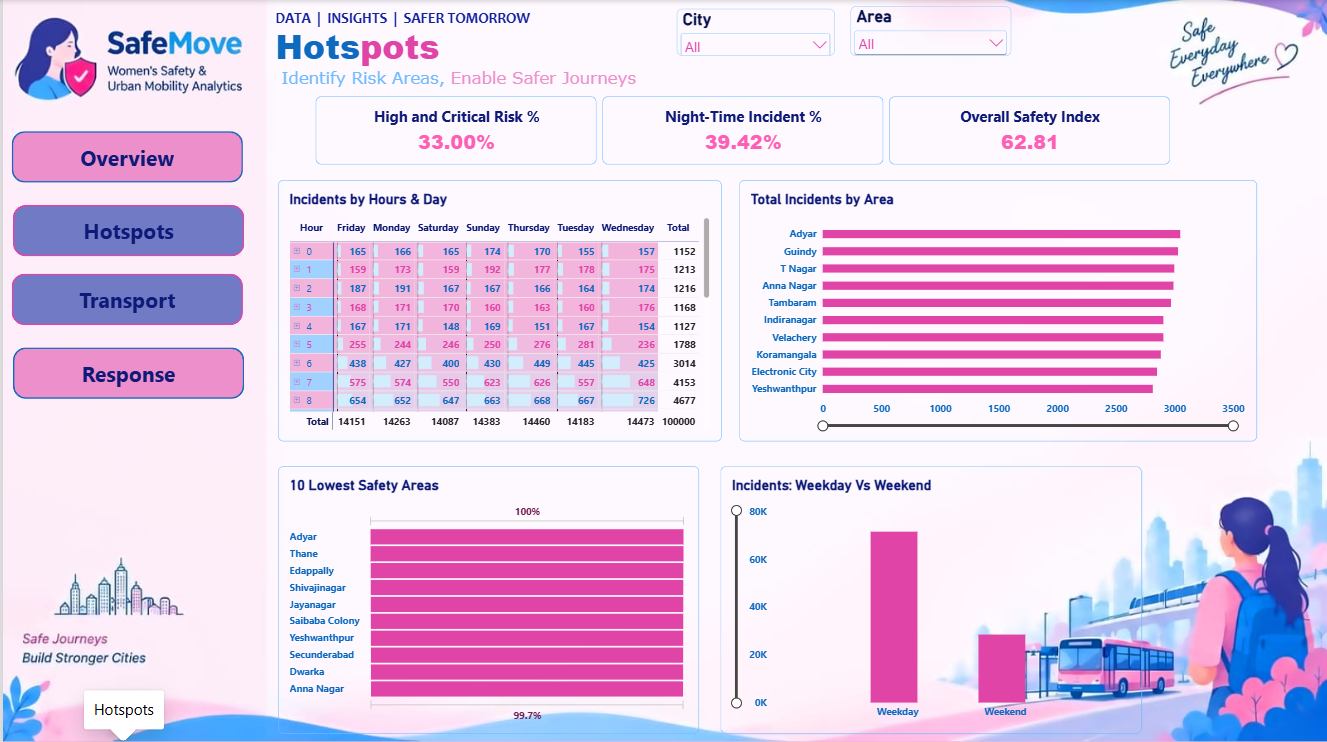

This screenshot's page, from the dashboard's own definition file:
{"tool":"powerbi","page":{"name":"Hotspots","canvas":[1920,1080],"ordinal":1},"visuals":[{"type":"textbox","box":[394.5,12.7,1046,39.8],"z":0},{"type":"textbox","box":[394.5,32.6,305.8,81.4],"z":1000},{"type":"textbox","box":[394.5,97.7,544.7,39.8],"z":2000},{"type":"cardVisual","fields":{"Data":["db.High and Critical Risk %","db.Night-Time Incident %","db.Overall Safety Index"]},"box":[452.4,139.3,1237.8,99.5],"z":3000},{"type":"clusteredColumnChart","title":"Incidents: Weekday Vs Weekend","fields":{"Category":["db.Weekend_Flag"],"Y":["db.Total Incidents"]},"box":[1039.5,675.1,609.3,387],"z":4000},{"type":"clusteredBarChart","title":"Total Incidents by Area","fields":{"Category":["db.Area"],"Y":["db.Total Incidents"]},"box":[1066.2,261.4,749.2,378.7],"z":5000},{"type":"pivotTable","title":"Incidents by Hours & Day","fields":{"Columns":["db.Day"],"Rows":["db.Hour","DateTable.Weekday"],"Values":["db.Total Incidents"]},"box":[397.3,261.4,642.2,378.7],"z":6000},{"type":"funnel","title":" 10 Lowest Safety Areas","fields":{"Category":["db.Area"],"Y":["db.Overall Safety Index"]},"box":[397.3,675.1,609.3,387],"z":7000},{"type":"slicer","fields":{"Values":["db.City"]},"box":[975.4,12.7,228.5,67.9],"z":8000},{"type":"slicer","fields":{"Values":["db.Area"]},"box":[1227,9,232.6,72],"z":9000},{"type":"shape","box":[12.7,190,334.8,74.2],"z":10000},{"type":"shape","box":[14.5,296.8,334.8,74.2],"z":11000},{"type":"shape","box":[12.7,396.3,334.8,74.2],"z":12000},{"type":"shape","box":[14.5,503.1,334.8,74.2],"z":13000}]}

Visuals, with their boxes in screenshot pixels (x1, y1, x2, y2), scaled from the page's 1920x1080 canvas onto the 1327x742 screenshot:
textbox: Rect(273, 9, 996, 36)
textbox: Rect(273, 22, 484, 78)
textbox: Rect(273, 67, 649, 94)
cardVisual - db.High and Critical Risk % x db.Night-Time Incident %: Rect(313, 96, 1168, 164)
"Incidents: Weekday Vs Weekend" clusteredColumnChart: Rect(718, 464, 1140, 730)
"Total Incidents by Area" clusteredBarChart: Rect(737, 180, 1255, 440)
"Incidents by Hours & Day" pivotTable: Rect(275, 180, 718, 440)
" 10 Lowest Safety Areas" funnel: Rect(275, 464, 696, 730)
slicer - db.City: Rect(674, 9, 832, 55)
slicer - db.Area: Rect(848, 6, 1009, 56)
shape: Rect(9, 131, 240, 182)
shape: Rect(10, 204, 241, 255)
shape: Rect(9, 272, 240, 323)
shape: Rect(10, 346, 241, 397)
